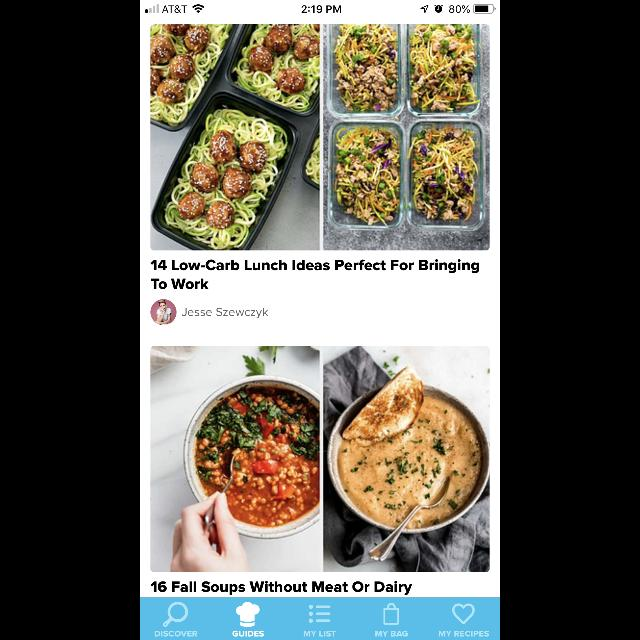icon: (164, 601, 188, 627), (452, 604, 474, 624), (309, 605, 331, 623), (383, 603, 399, 625)
image: (150, 25, 490, 251), (150, 346, 490, 572), (151, 299, 177, 325), (236, 602, 260, 626)
text: (151, 259, 479, 289), (150, 581, 412, 595), (182, 308, 268, 318), (439, 631, 489, 637), (154, 630, 198, 636), (232, 631, 264, 637), (304, 631, 336, 637), (376, 631, 408, 637)
uppertaskbar: (140, 0, 500, 14)
